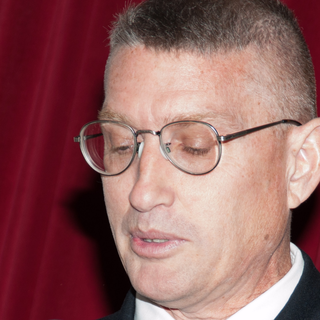eye: (169, 135, 222, 165), (102, 135, 144, 163)
